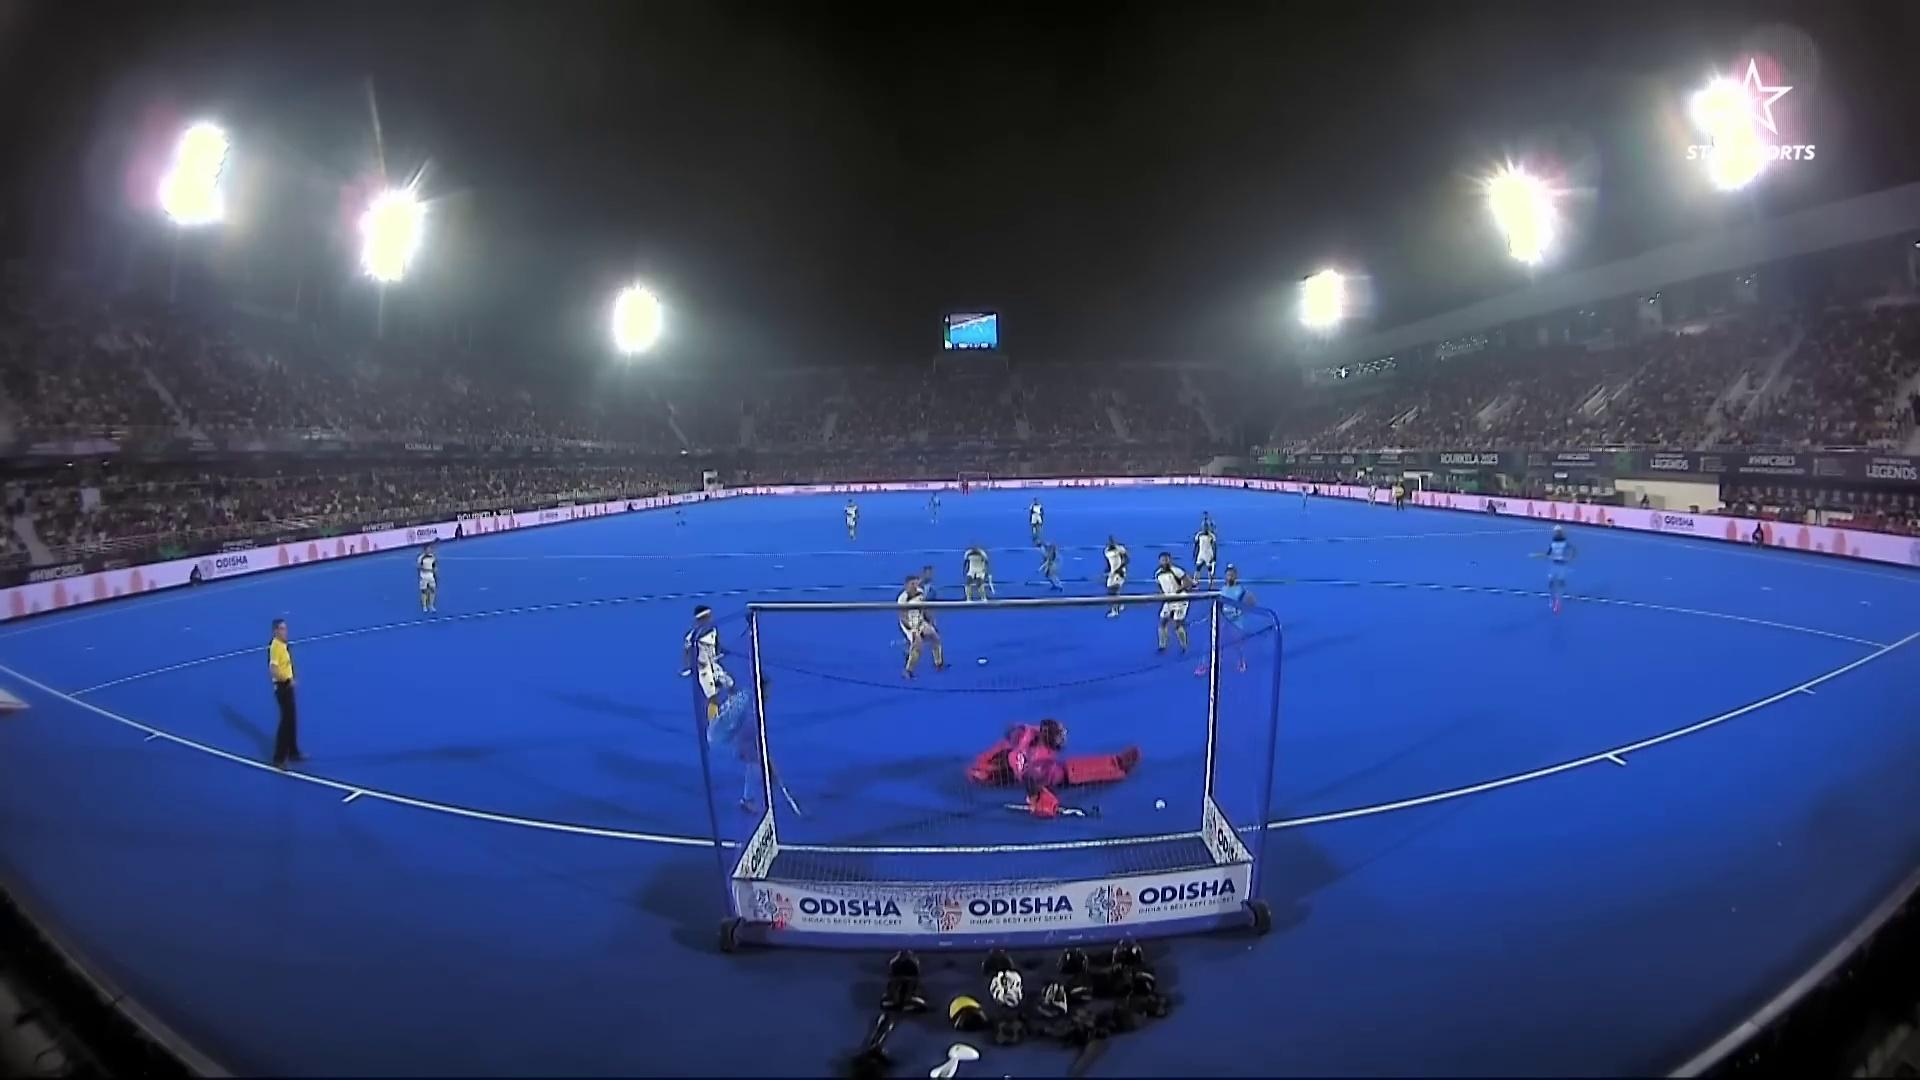ball: (1153, 796, 1171, 812)
